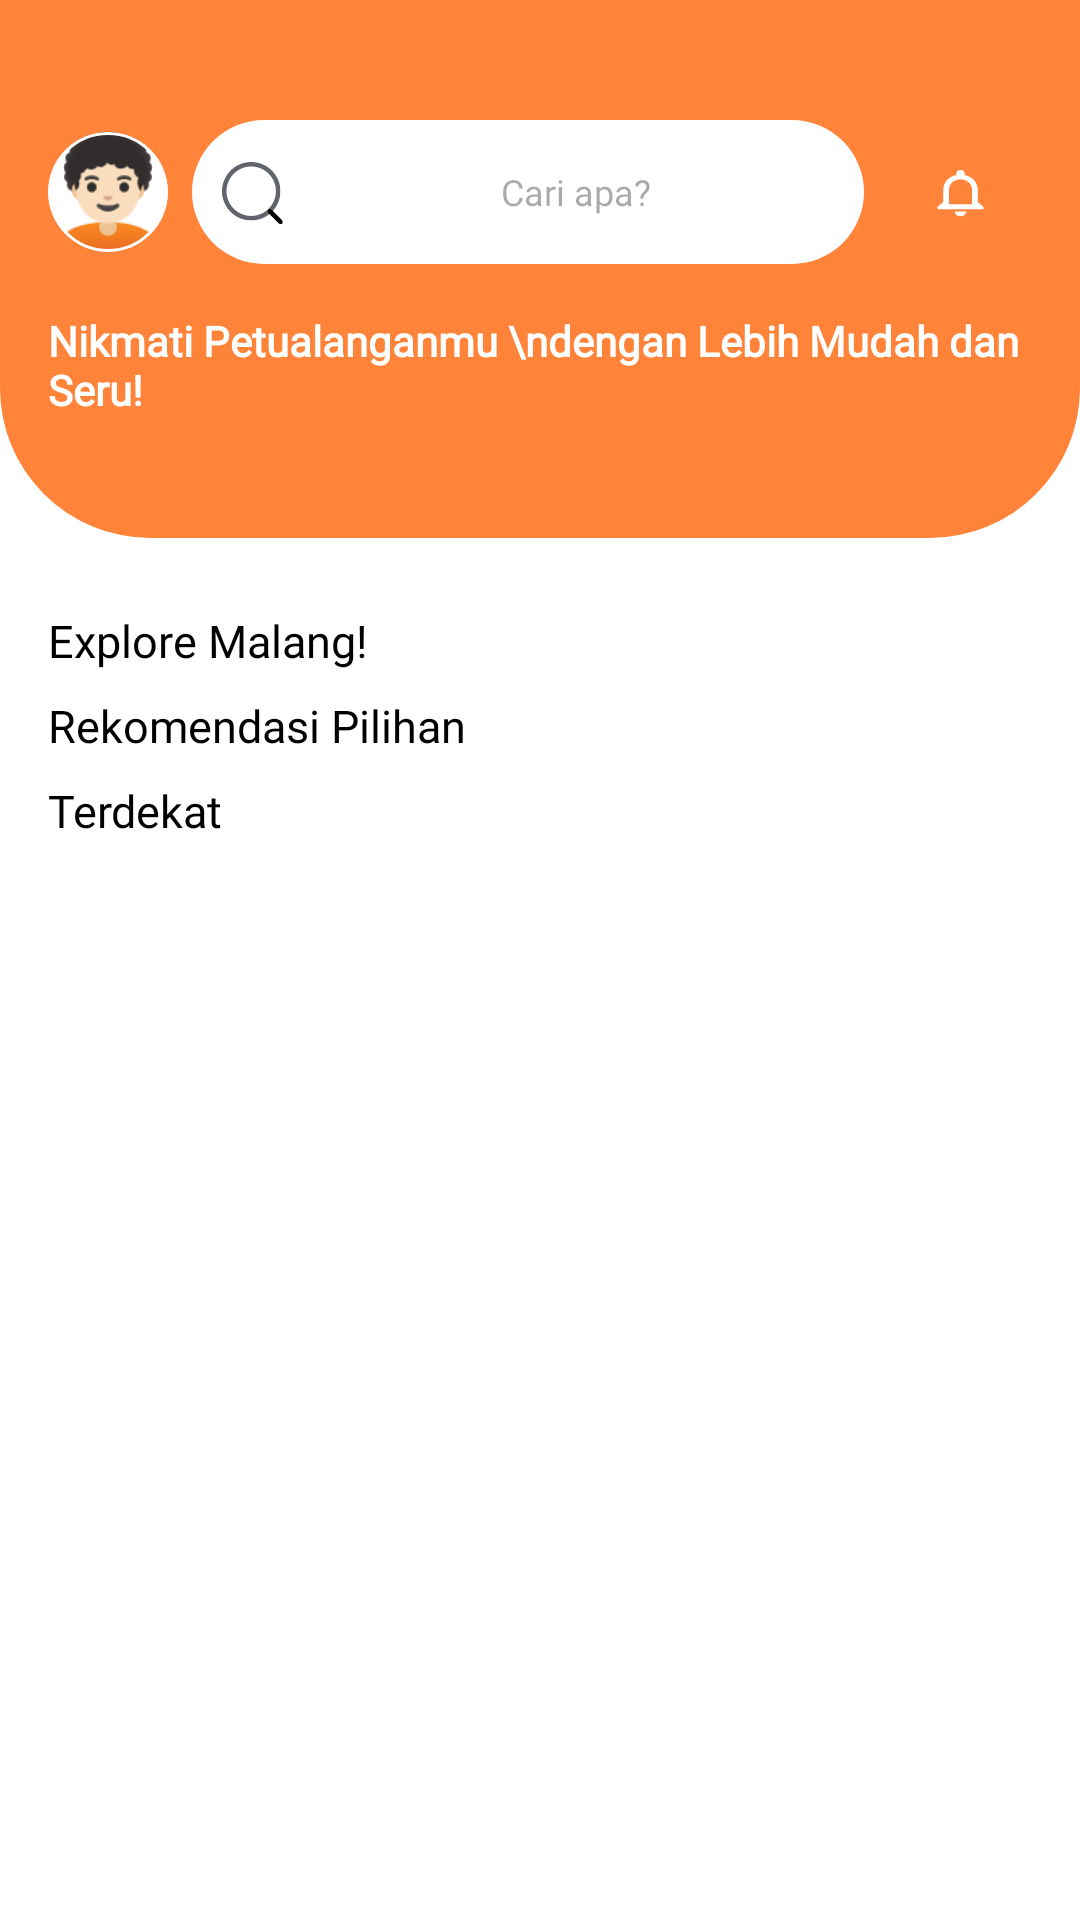

Icons on this 1080px×1920px Android screen, each with its box as (x1, y1, x2, y2):
notif: (937, 170, 984, 217)
person: (48, 132, 168, 252)
